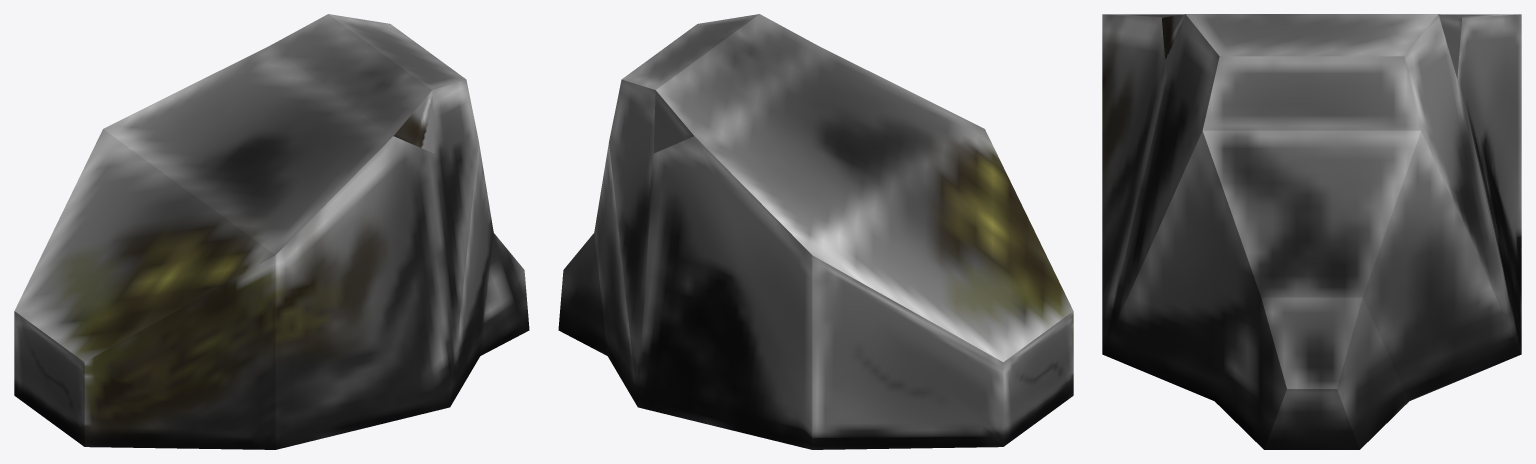
Rendered from SM_Rock_06.fbx.
3 views of the same model, side by side, from view 1: azimuth 30°, elevation 25°; view 2: azimuth 150°, elevation 25°; view 3: azimuth 270°, elevation 25° (orthographic). The views are drawn at different scales.
Visible parts, largest first — view 1: Roca 5; view 2: Roca 5; view 3: Roca 5.
Part boxes in pixels (x1,y1,x2,y2): Roca 5: (14,14,529,449); Roca 5: (558,14,1073,449); Roca 5: (1102,14,1521,449).
Size of the model in its own units: 3.11 by 1.89 by 2.
1 material, 1 textured.
